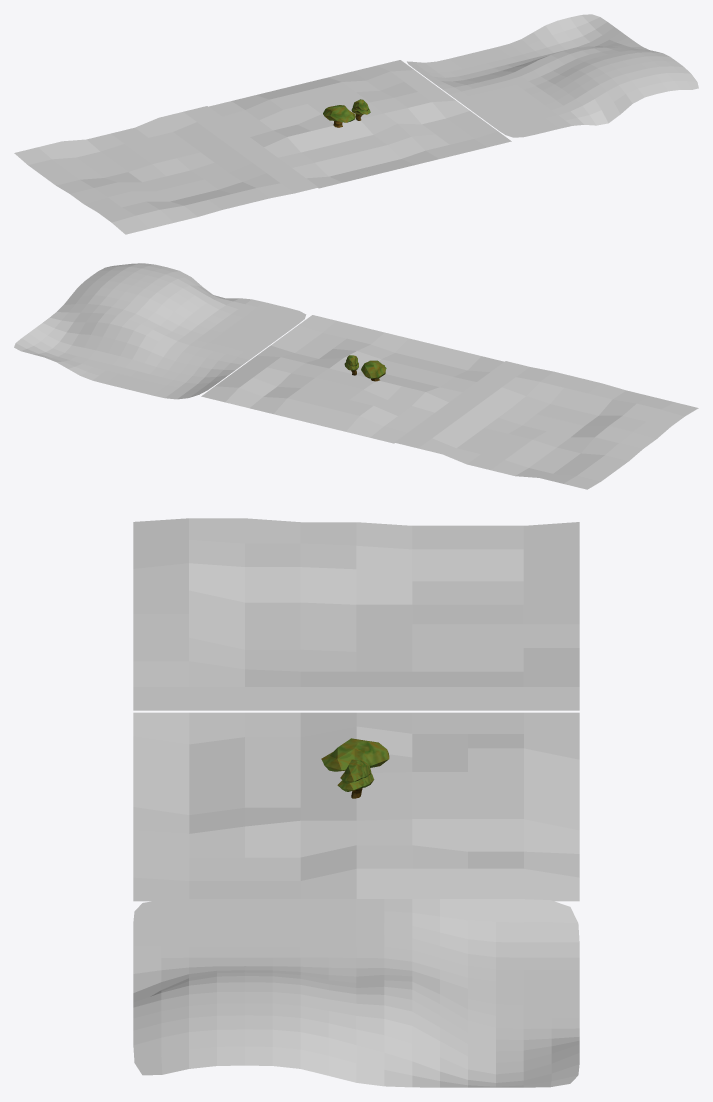
The model's file is environment.fbx.
3 views of the same model, one above another, from view 1: azimuth 30°, elevation 25°; view 2: azimuth 150°, elevation 25°; view 3: azimuth 270°, elevation 25° (orthographic). The views are drawn at different scales.
Parts seen in each view (by area): view 1: GroundQuad.003, GroundQuad.001, GroundQuad.002, BigTree; view 2: GroundQuad.002, GroundQuad.003, GroundQuad.001, BigTree; view 3: GroundQuad.003, GroundQuad.001, GroundQuad.002, BigTree.
Boxes of the visible parts, bbox=[...] form: GroundQuad.003: bbox=[14, 106, 318, 234]; GroundQuad.001: bbox=[208, 60, 511, 188]; GroundQuad.002: bbox=[407, 14, 698, 137]; BigTree: bbox=[323, 105, 355, 127]; GroundQuad.002: bbox=[14, 263, 306, 399]; GroundQuad.003: bbox=[394, 361, 698, 489]; GroundQuad.001: bbox=[201, 315, 504, 443]; BigTree: bbox=[361, 360, 386, 381]; GroundQuad.003: bbox=[133, 518, 579, 710]; GroundQuad.001: bbox=[133, 712, 579, 901]; GroundQuad.002: bbox=[133, 899, 579, 1087]; BigTree: bbox=[321, 738, 389, 771].
Bounding box in the file's own units: 30000 × 1712 × 10001.
